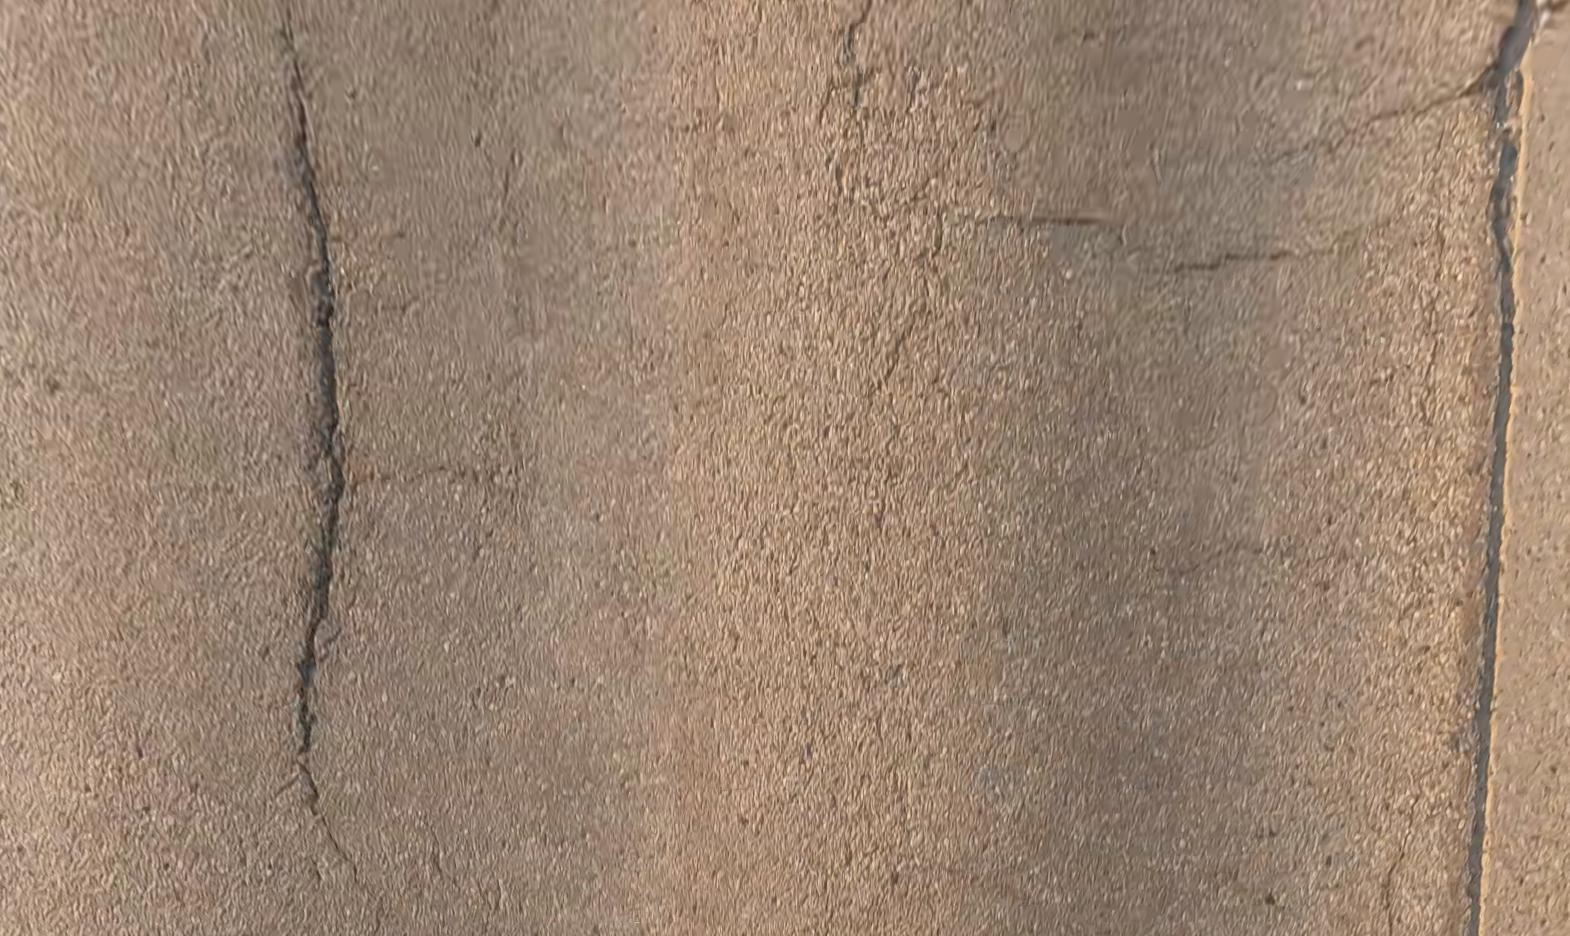pothole: (1482, 0, 1570, 123)
